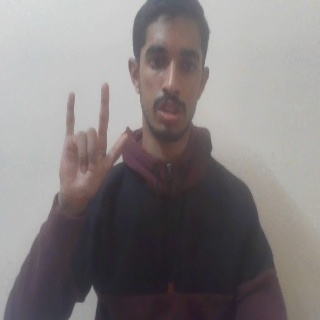Face: (126, 2, 214, 140)
I Love You: (57, 81, 130, 206)
